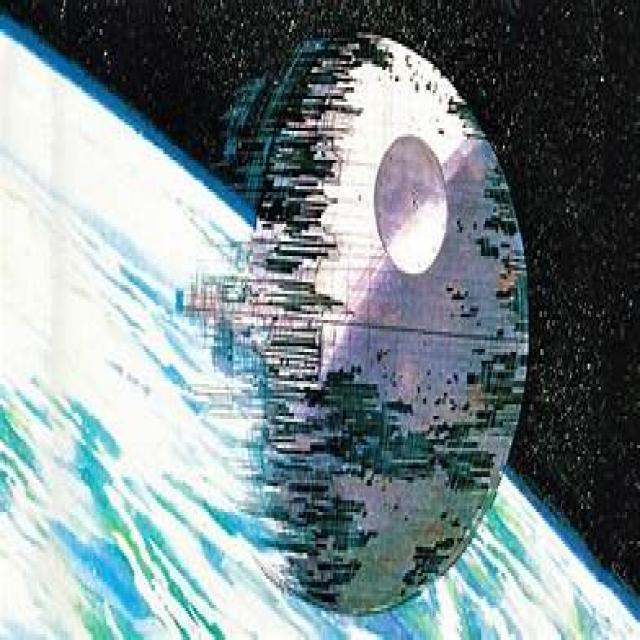deathStar: (176, 34, 530, 613)
